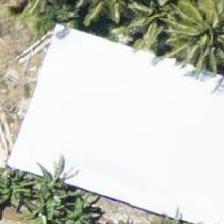coconut_tree: (168, 0, 223, 76)
